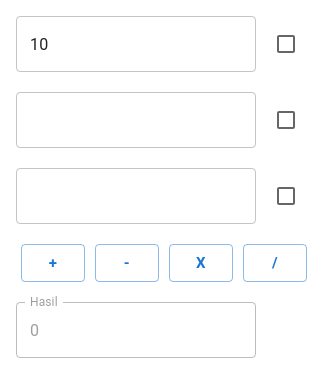
Plus operation › action plus 2 number
This screenshot has width=324, height=375.
Replace the text in the number field named "numbers0" with "2": (136,44) [16, 16, 256, 72]
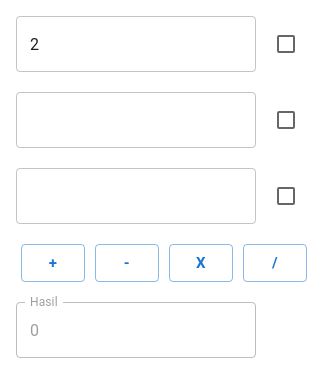
In the number field named "numbers1": (136,120) [16, 92, 256, 148], type "3"
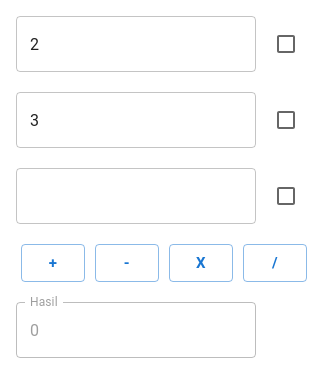
Click the checkbox named "checks0": (286,44) [274, 32, 298, 56]
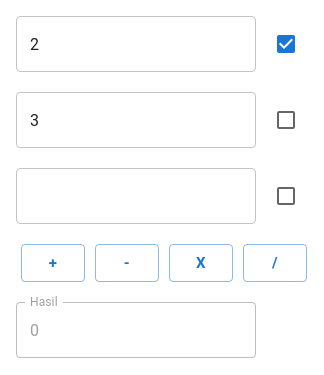
Click the checkbox named "checks1": (286,120) [274, 108, 298, 132]
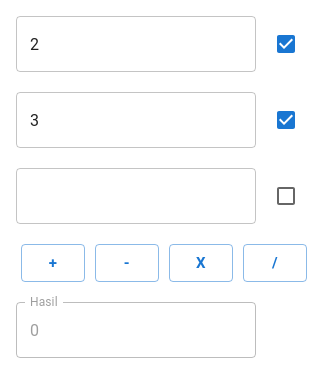
Click the button named "button-plus": (53,263) [21, 244, 85, 282]
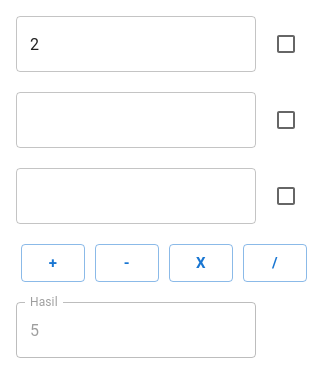
Result: the field named "result" holds "5" at [16, 302, 256, 358]
